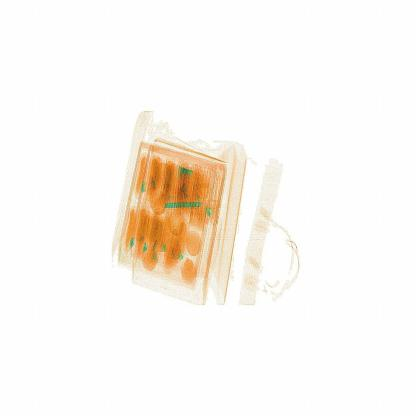pliers: (157, 198, 215, 218)
